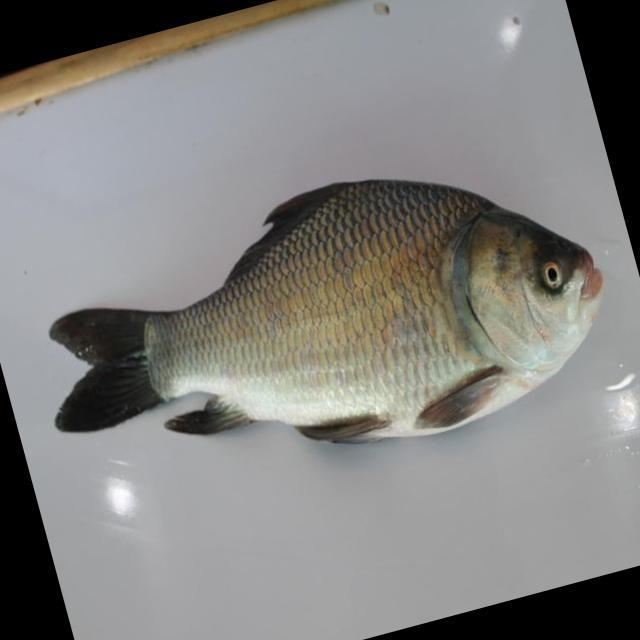Catla: (44, 170, 610, 465)
